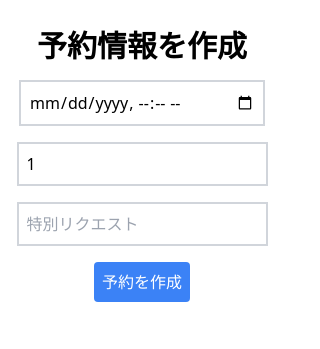
Test: ReservertionForm › shows an error message when form submission fails
Type "2024-10-02T12:00" into the field with placeholder "予約日". click: (142, 103)
box: 19,80 -> 265,126
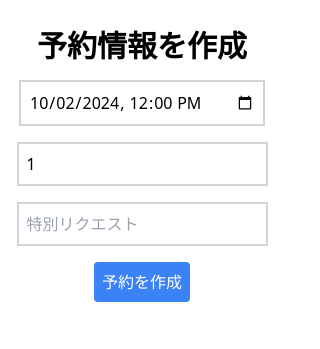
Replace the text in the number field with placeholder "人数" with "4". click: (142, 164)
box: 16,142 -> 268,186
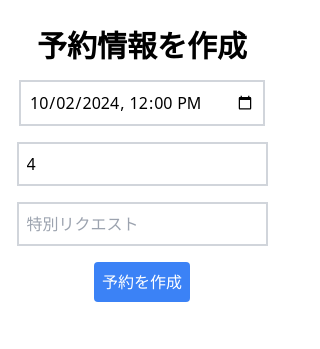
Type "ベジタリアンメニューをお願いします" into the field with placeholder "特別リクエスト". click: (142, 224)
box: 16,202 -> 268,246
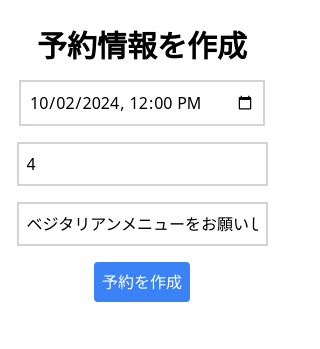
Note: 送信ボタンをクリック
Click the button "予約を作成". click: (142, 282)
box: 94,262 -> 190,302
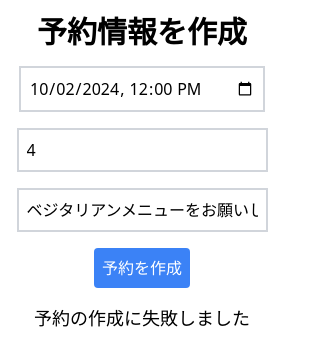
expect the text "予約の作成に失敗しました" is shown: met, box 34,304 -> 250,332
